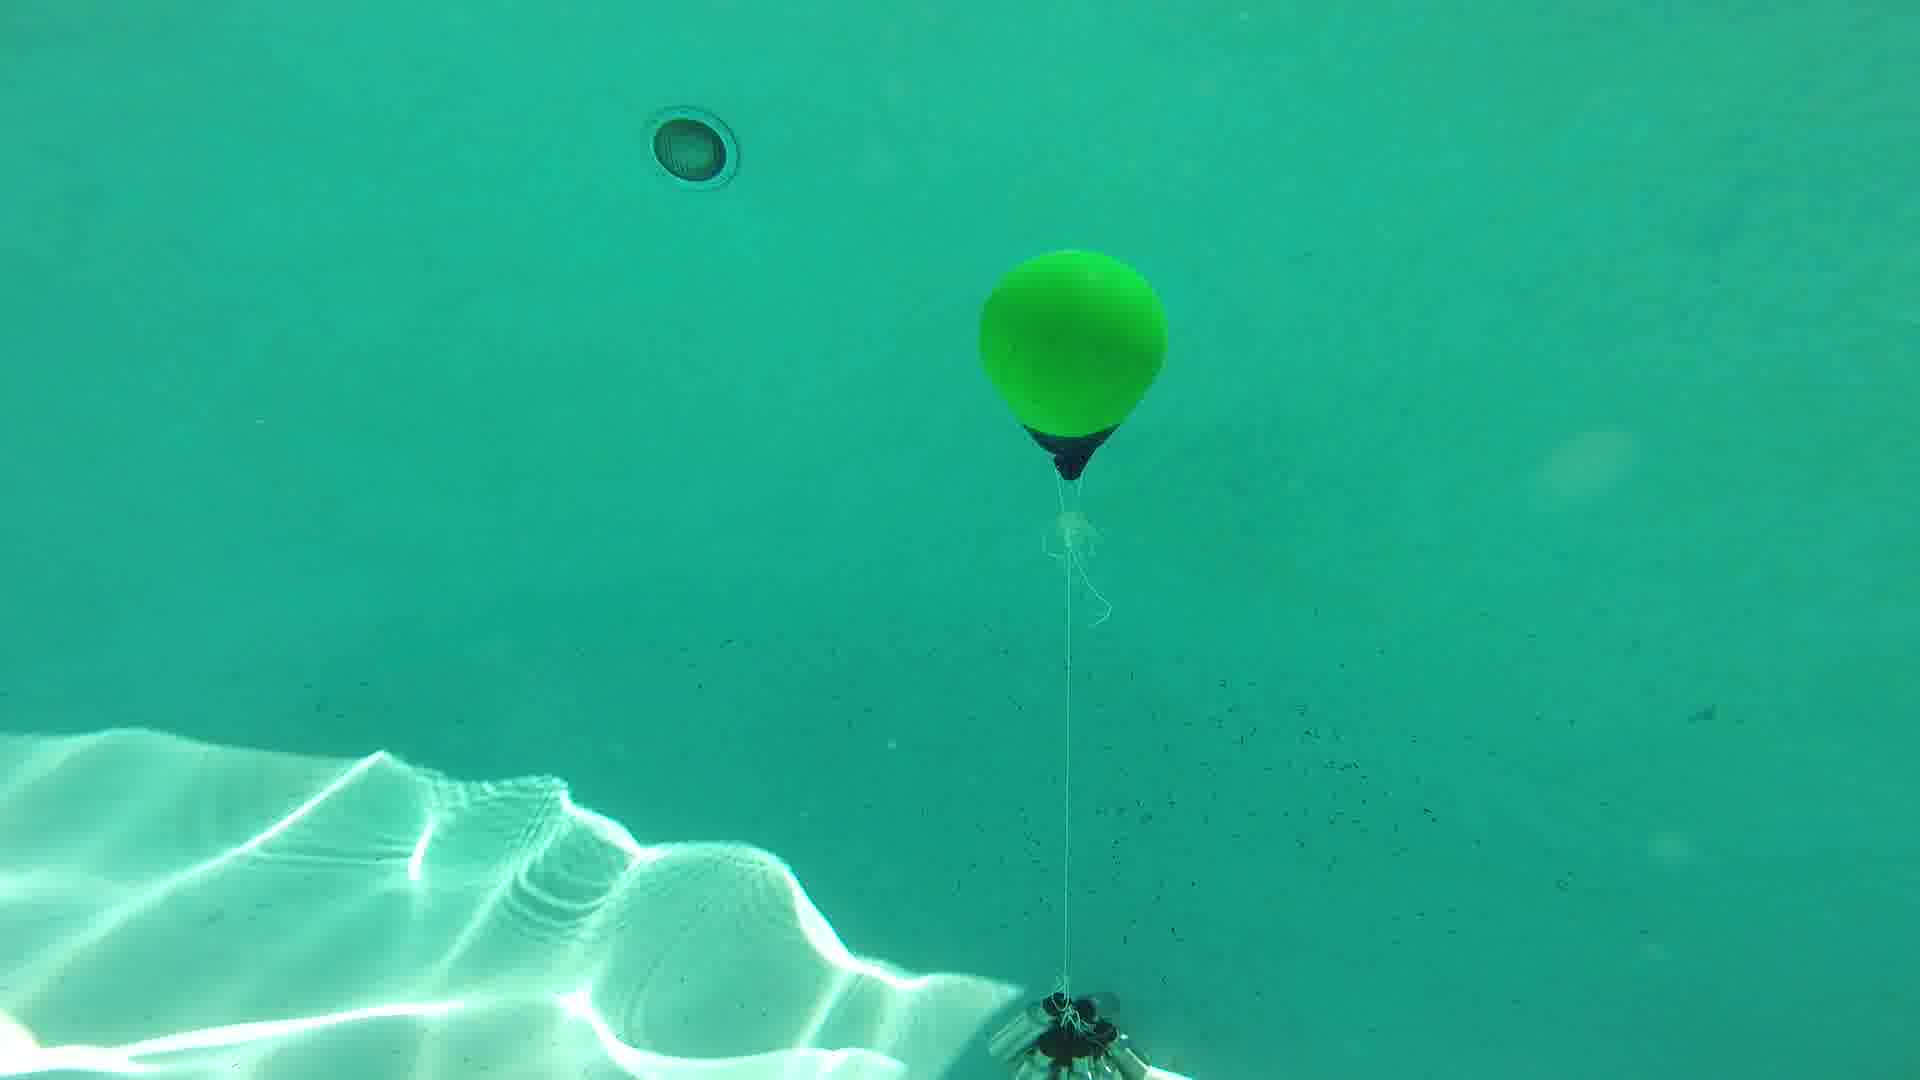yellow_buoy: (975, 247, 1172, 483)
